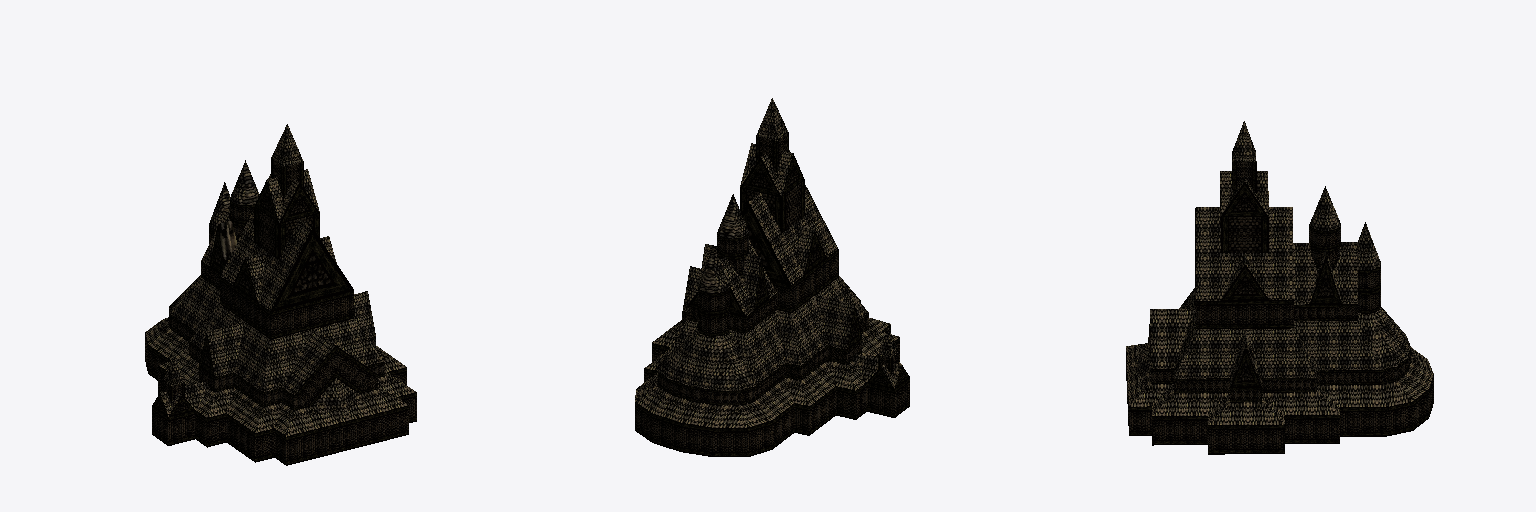
3 views of the same model, side by side, from view 1: azimuth 30°, elevation 25°; view 2: azimuth 150°, elevation 25°; view 3: azimuth 270°, elevation 25° (orthographic).
Parts seen in each view (by area): view 1: temple2; view 2: temple2; view 3: temple2.
Part boxes in pixels (x1,y1,x2,y2): temple2: (145, 124, 416, 465); temple2: (635, 98, 909, 456); temple2: (1126, 121, 1433, 454).
Bounding box in the file's own units: 1.88 × 2.22 × 2.17.
Materials: 2 (2 with a texture image).